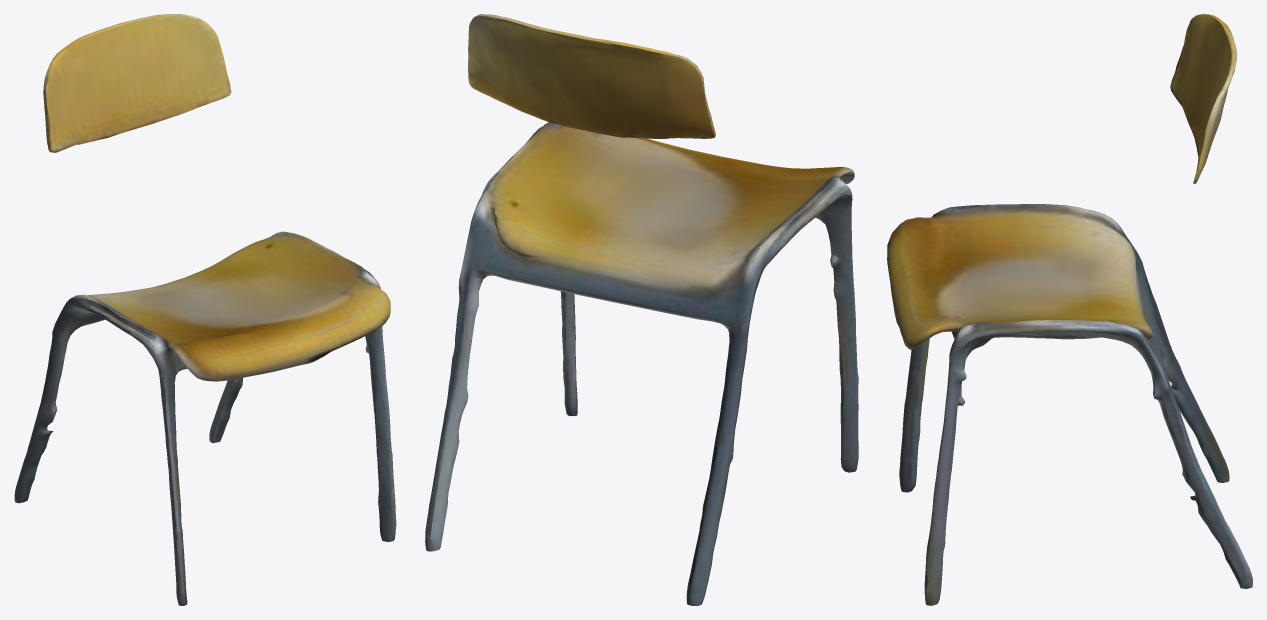
3 renders of one model, left to right at view 1: azimuth 30°, elevation 25°; view 2: azimuth 150°, elevation 25°; view 3: azimuth 270°, elevation 25°, orthographic. The views are drawn at different scales.
Visible parts, largest first — view 1: world; view 2: world; view 3: world.
Part boxes in pixels (<box>): world: <box>14,14,396,605</box>; world: <box>425,14,858,605</box>; world: <box>887,14,1252,605</box>.
Size of the model in its own units: 0.2881 by 0.4986 by 0.3374.
1 material, 1 textured.
